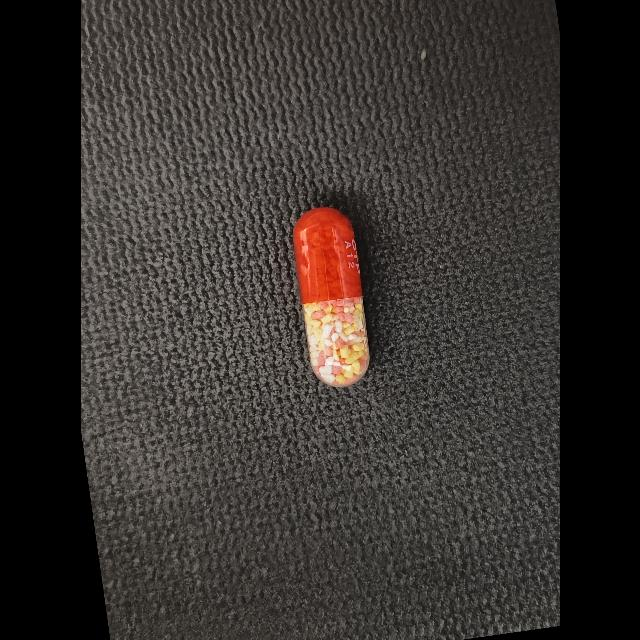Intact Capsule: (292, 207, 369, 387)
